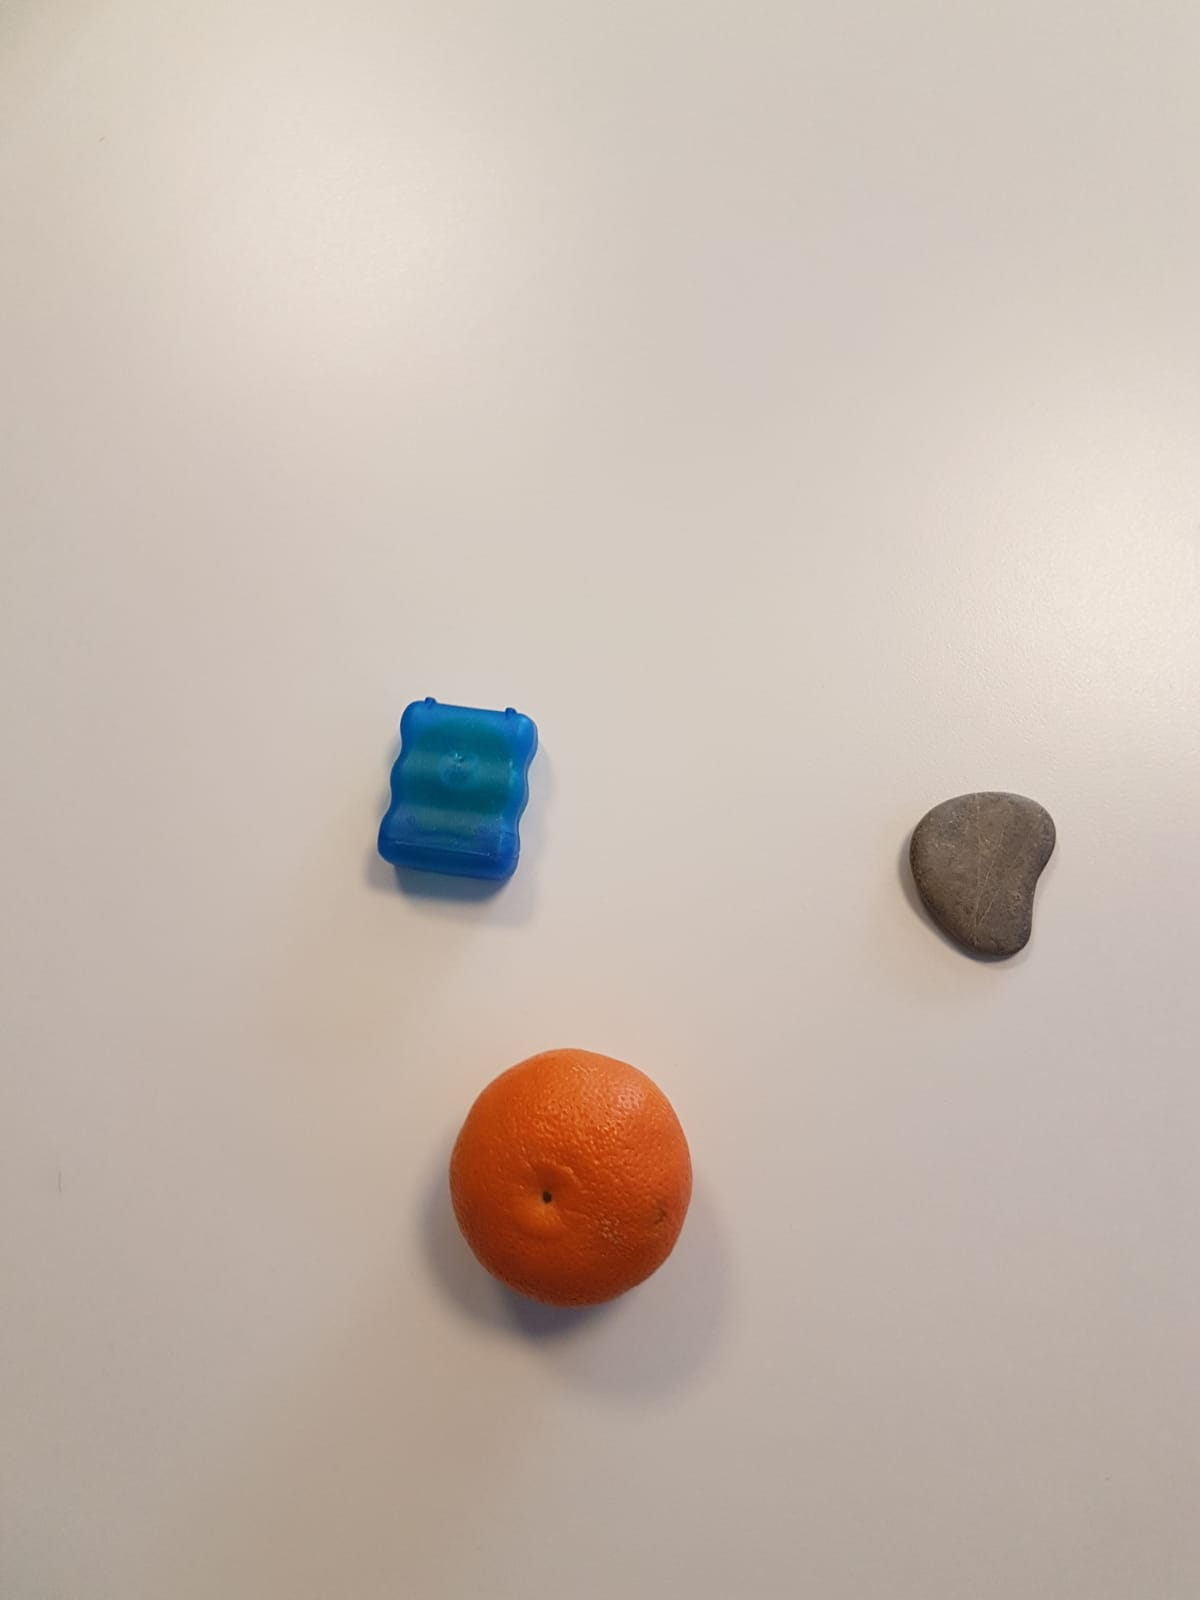Box: (376, 692, 538, 896)
Orange: (451, 1043, 689, 1311)
Stone: (903, 787, 1055, 964)
